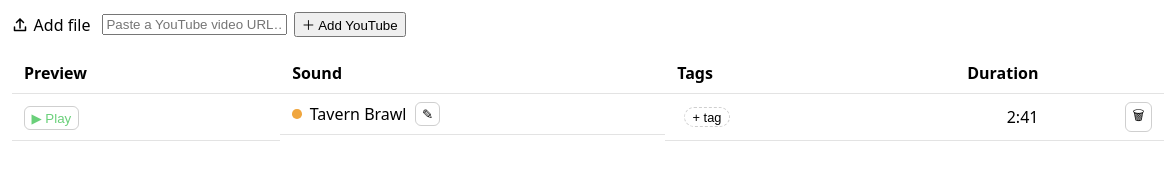
Test: clicking Stop on the playing row stops its player
Check: the text "Tavern Brawl" is shown, box [310, 102, 406, 126]
Click the button "▶ Play" at coordinates (51, 118), box [24, 106, 79, 130]
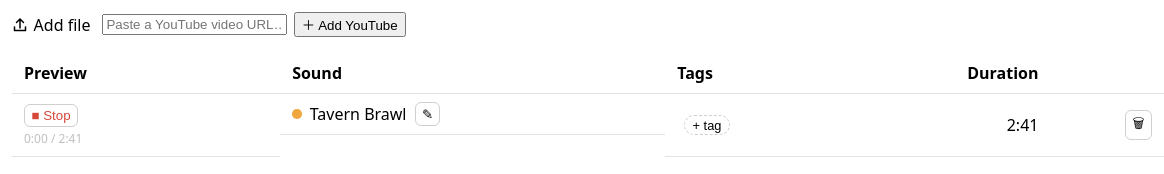
Check: the button "■ Stop" is shown
Click the button "■ Stop" at coordinates (51, 116), box [24, 104, 78, 127]
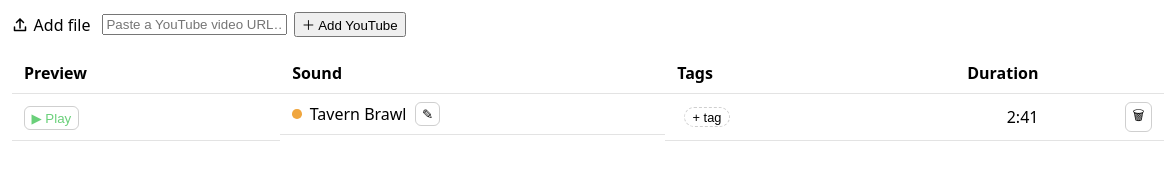
Check: the button "▶ Play" is shown, box [24, 106, 79, 130]
